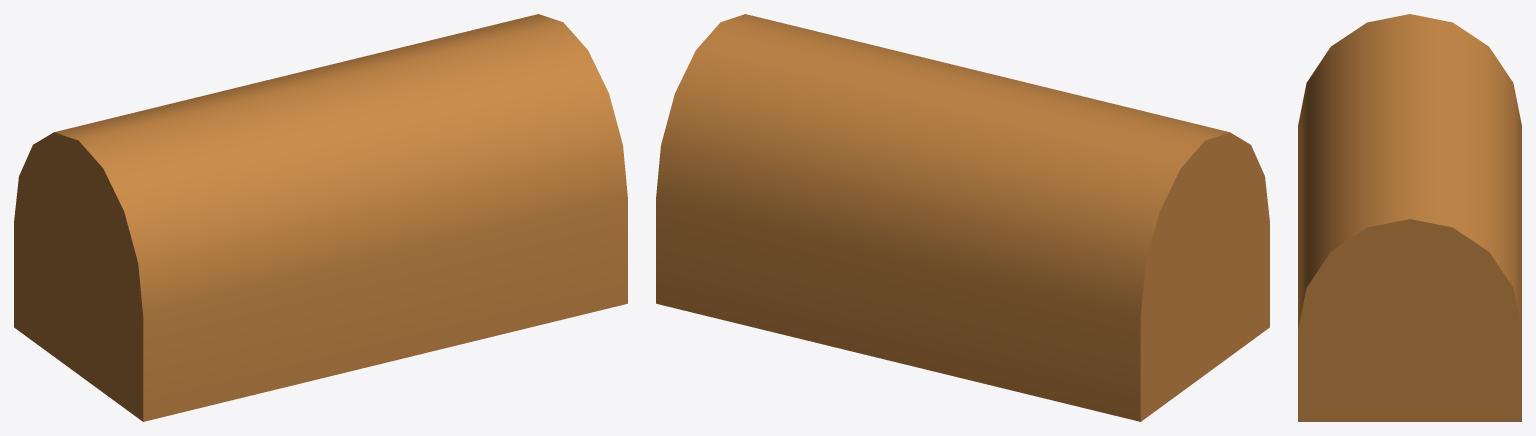
The model's file is Bread.fbx.
3 renders of one model, left to right at view 1: azimuth 30°, elevation 25°; view 2: azimuth 150°, elevation 25°; view 3: azimuth 270°, elevation 25°, orthographic. The views are drawn at different scales.
Parts seen in each view (by area): view 1: Bread; view 2: Bread; view 3: Bread.
Boxes of the visible parts, bbox=[...] form: Bread: bbox=[14, 14, 627, 421]; Bread: bbox=[656, 14, 1269, 421]; Bread: bbox=[1298, 14, 1521, 421].
Bounding box in the file's own units: 0.26 × 0.12 × 0.12.
